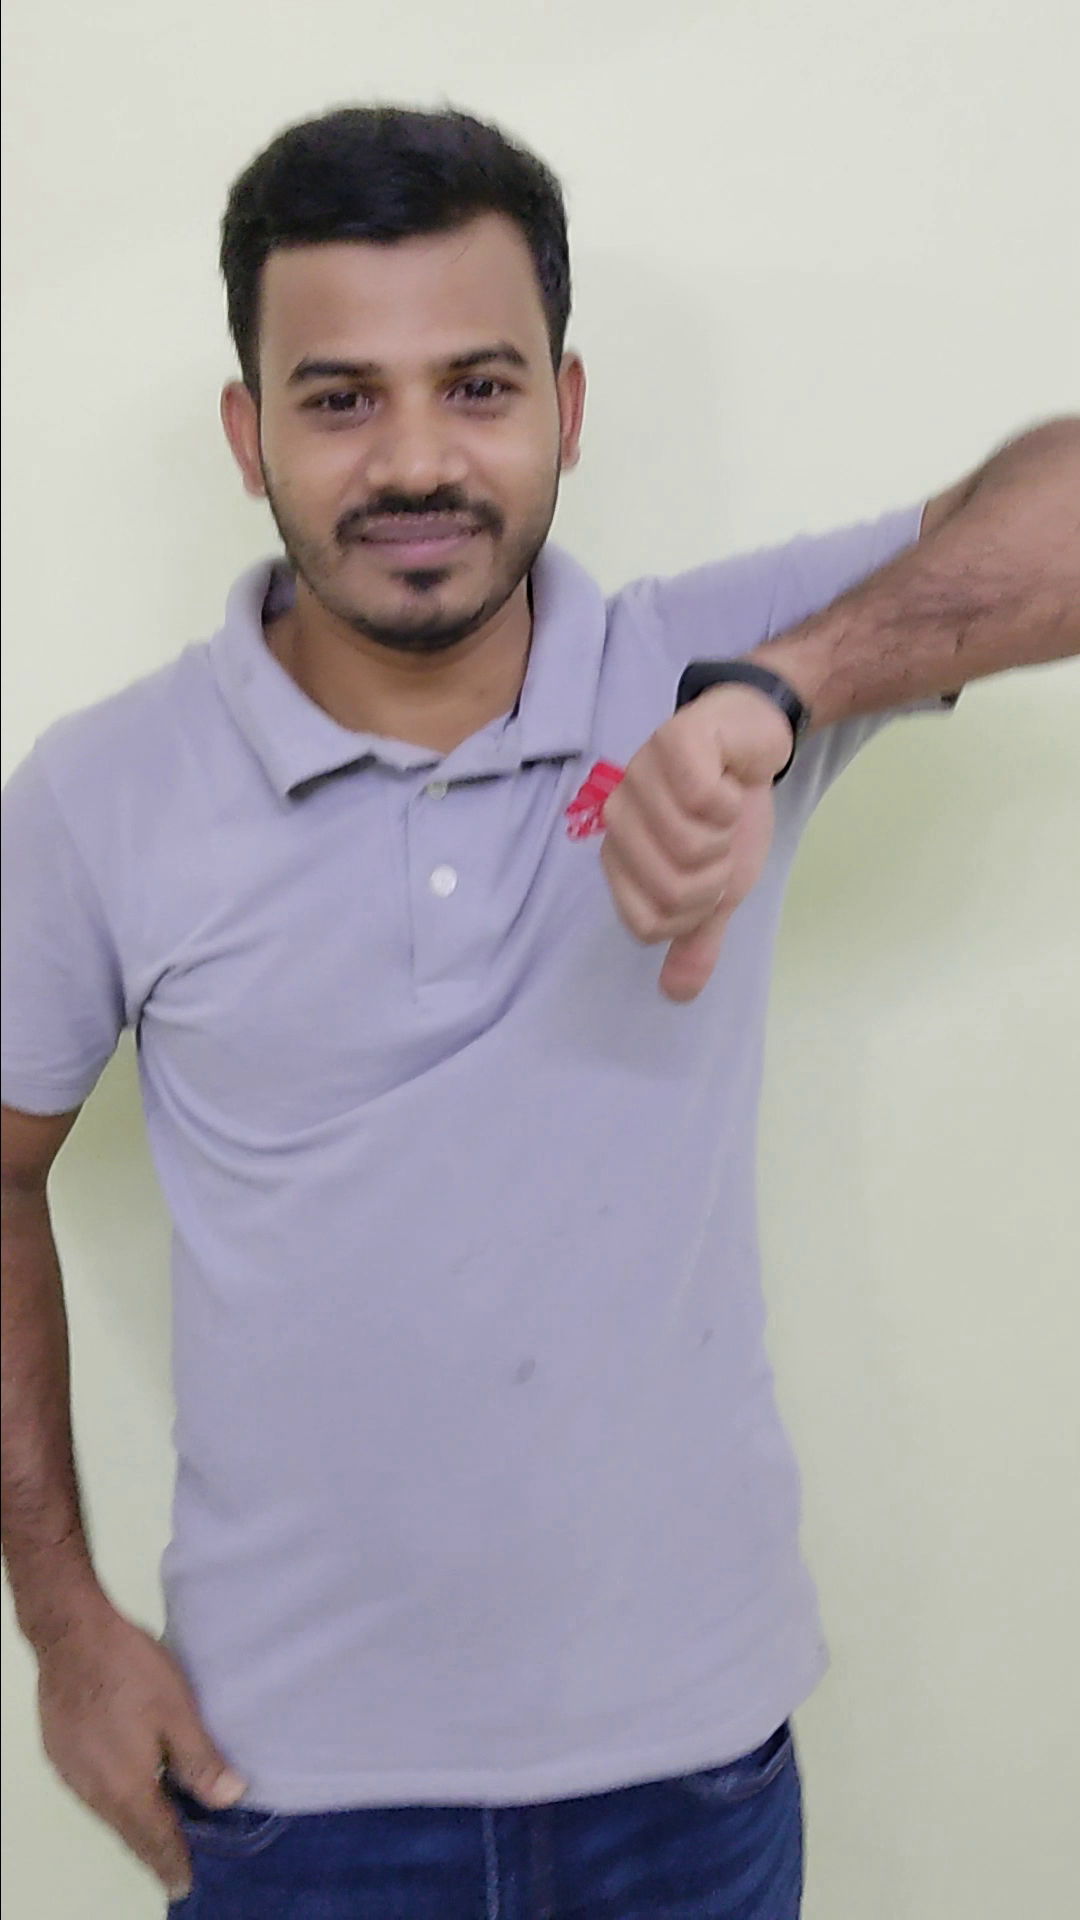Dislike: (576, 645, 804, 1019)
None: (18, 1596, 252, 1907)
